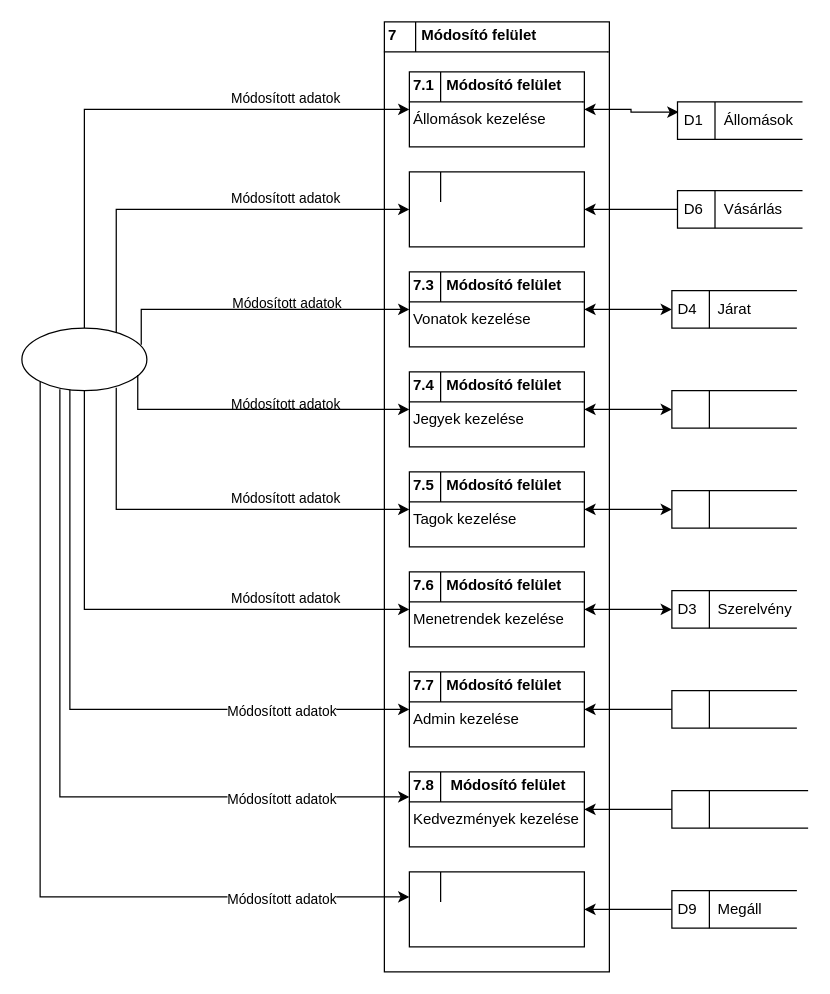
The diagram is 830 pixels wide and 994 high, and some of its shapes have lost their labels. Here are the shapes that lost their labels. From the top down, the box of each, then its label:
(408, 171, 584, 247): 7.2 Módosító felület Vásárlás kezelése
(21, 327, 147, 391): Admin
(671, 389, 797, 428): D5 Jegyek
(671, 489, 797, 528): D2 Tagok
(671, 689, 797, 728): D7 Admin
(671, 789, 808, 828): D8 Kedvezmény
(408, 871, 584, 947): 7.9 Módosító felület Megáll-ok kezelése
